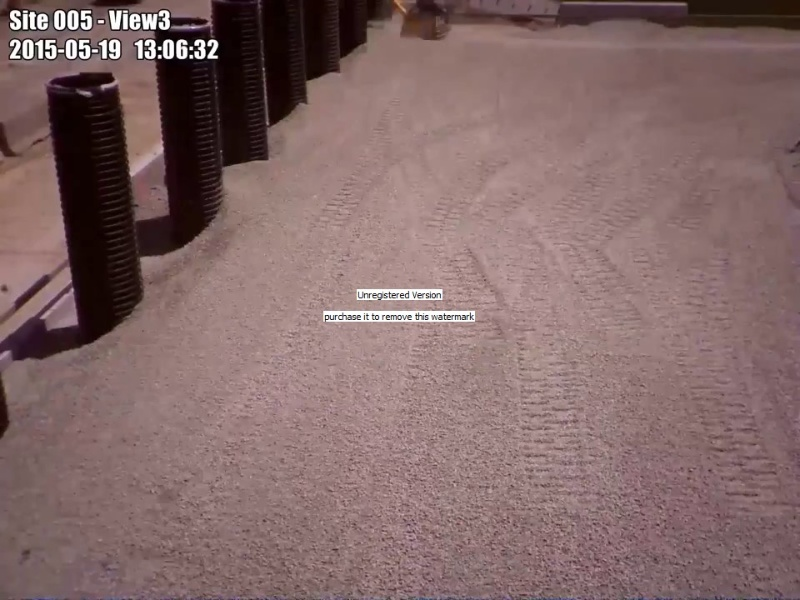columns: (43, 71, 150, 333), (154, 18, 226, 244), (212, 1, 271, 164), (262, 1, 308, 126), (296, 1, 341, 84), (340, 1, 366, 56)
